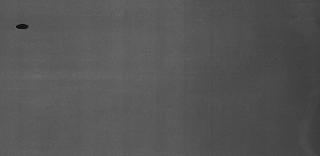punching hole: (14, 22, 31, 32)
